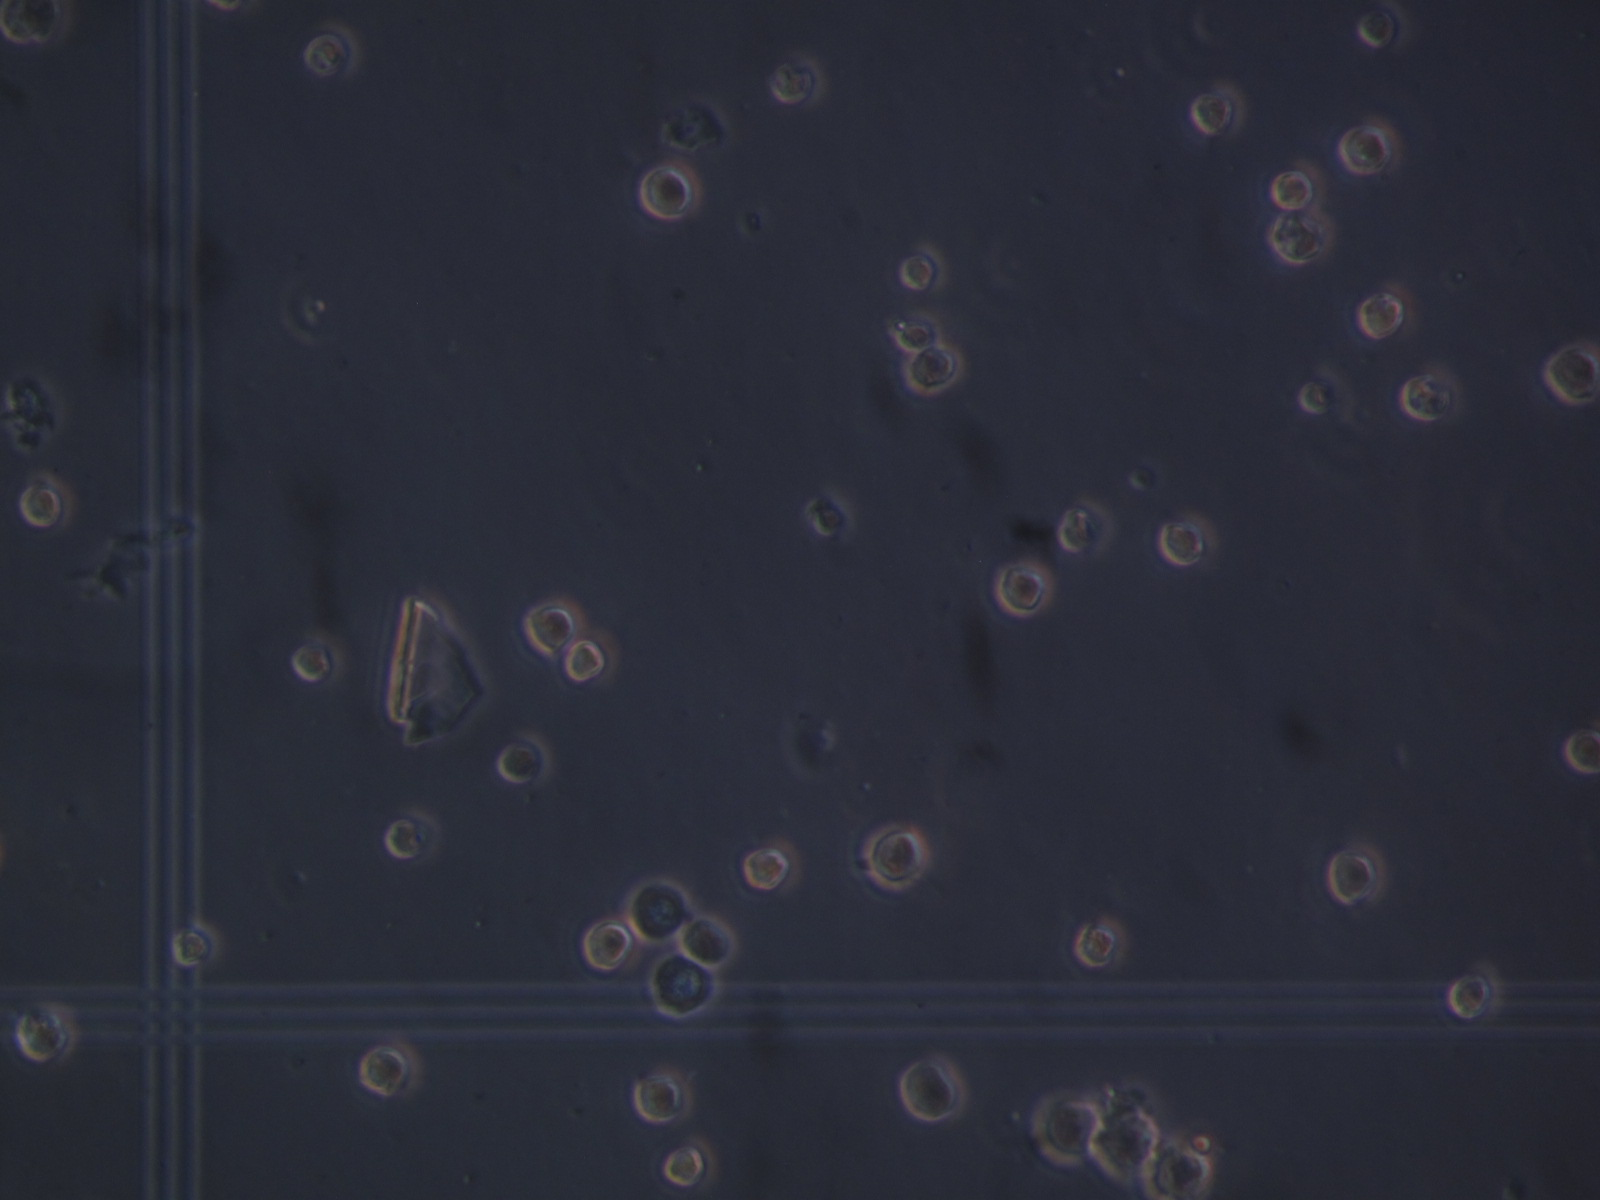hemo: (1027, 1092, 1100, 1166), (1099, 1103, 1158, 1186), (621, 876, 689, 947), (900, 1050, 968, 1121), (16, 1000, 79, 1069), (866, 822, 929, 889), (649, 957, 717, 1018), (1401, 359, 1464, 424), (637, 158, 702, 219), (360, 1035, 420, 1100), (1296, 361, 1356, 426), (631, 1065, 695, 1124), (524, 595, 585, 655), (494, 730, 554, 790), (1541, 345, 1599, 406), (1330, 845, 1387, 906), (304, 19, 360, 78), (291, 625, 346, 686), (1357, 284, 1414, 342), (742, 837, 801, 892), (1270, 158, 1329, 213), (1271, 211, 1335, 261), (1, 1, 73, 45), (564, 629, 621, 684), (680, 915, 737, 971), (1448, 963, 1500, 1022), (901, 344, 963, 395), (1191, 82, 1245, 137), (1160, 1147, 1216, 1200), (20, 471, 71, 529), (1338, 124, 1396, 174), (770, 52, 823, 106), (583, 919, 632, 974), (1078, 913, 1128, 967), (994, 565, 1049, 613), (1359, 1, 1411, 52), (663, 1137, 716, 1186), (900, 242, 947, 292), (1061, 505, 1104, 560), (1158, 521, 1206, 568), (170, 921, 220, 967), (894, 309, 944, 350), (383, 817, 423, 863), (1562, 729, 1600, 771)
